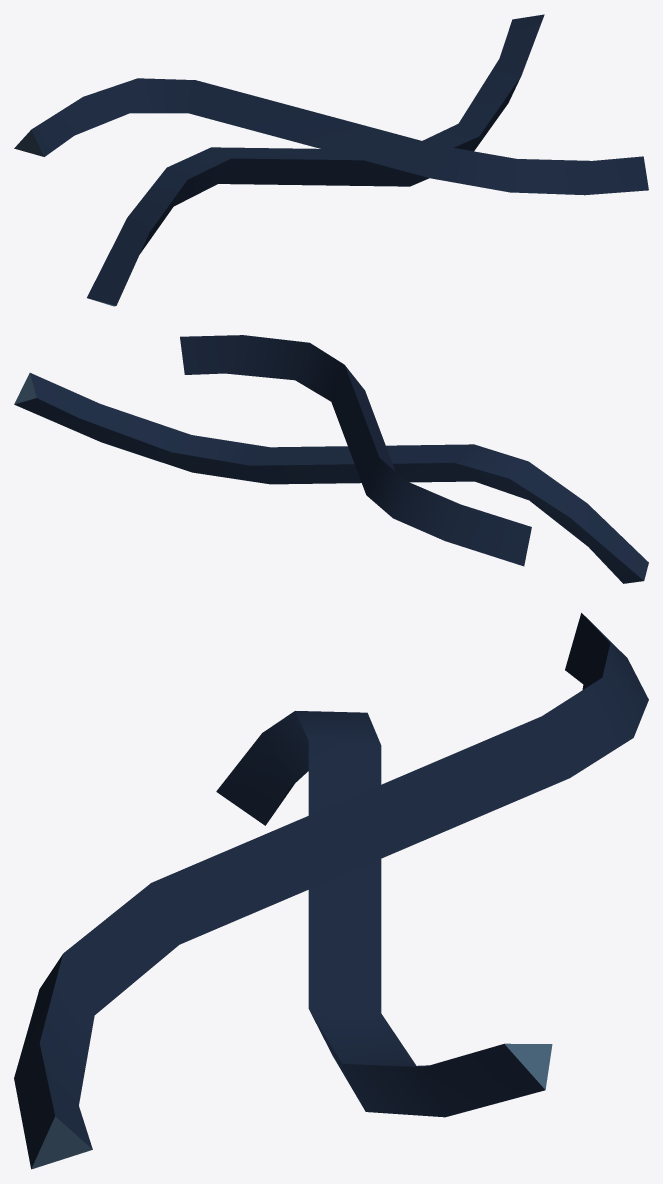
File: ProductMetal.fbx
3 views of the same model, one above another, from view 1: azimuth 30°, elevation 25°; view 2: azimuth 150°, elevation 25°; view 3: azimuth 270°, elevation 25° (orthographic). The views are drawn at different scales.
Parts seen in each view (by area): view 1: ProductMetal; view 2: ProductMetal; view 3: ProductMetal.
Part boxes in pixels (x1,y1,x2,y2): ProductMetal: (14, 14, 648, 306); ProductMetal: (14, 335, 648, 583); ProductMetal: (14, 613, 648, 1169).
Bounding box in the file's own units: 0.6359 × 0.1569 × 0.3582.
